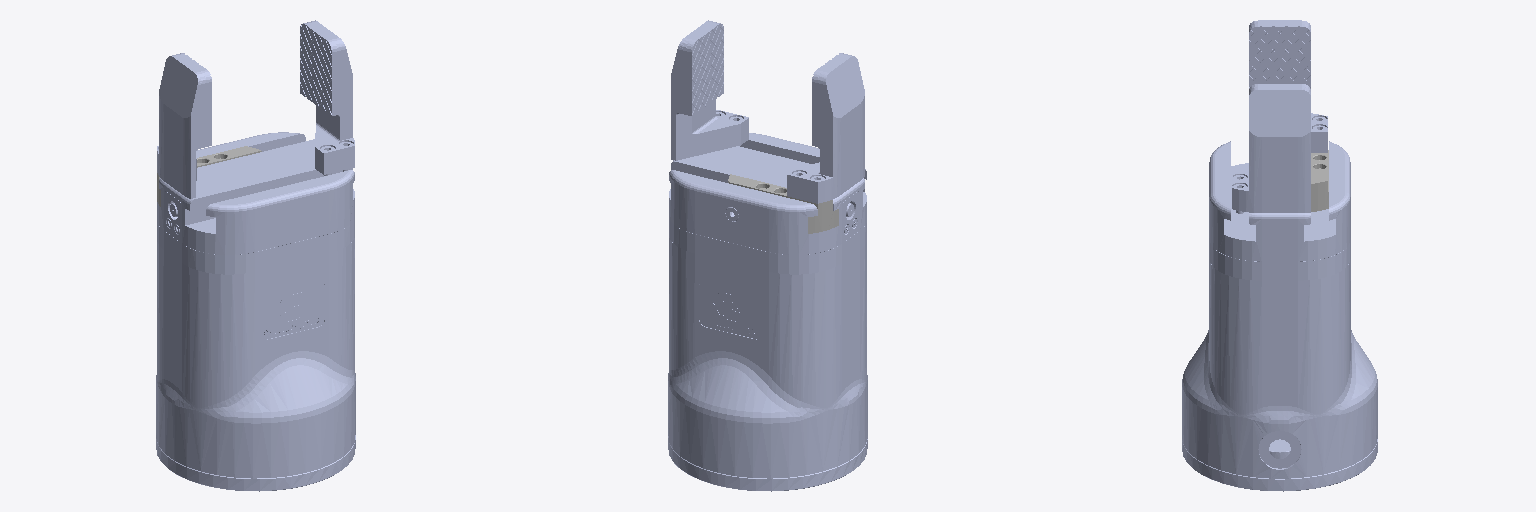
The robot description file, URDF, robot "crt_ctpm2f50f":
<?xml version="1.0" encoding="utf-8"?>
<!-- This URDF was automatically created by SolidWorks to URDF Exporter! Originally created by Stephen Brawner (brawner@gmail.com) 
     Commit Version: 1.6.0-4-g7f85cfe  Build Version: 1.6.7995.38578
     For more information, please see http://wiki.ros.org/sw_urdf_exporter -->
<robot
  name="crt_ctpm2f50f">
  <link
    name="base_link">
    <inertial>
      <origin
        xyz="0.000802838776835001 9.53299287325016E-06 0.0867685828772007"
        rpy="0 0 0" />
      <mass
        value="1.56796405570302" />
      <inertia
        ixx="0.00192617073321075"
        ixy="2.91149292551815E-05"
        ixz="6.18066592591082E-05"
        iyy="0.00216968536764494"
        iyz="2.31914608939548E-06"
        izz="0.00102430382169409" />
    </inertial>
    <visual>
      <origin
        xyz="0 0 0"
        rpy="0 0 0" />
      <geometry>
        <mesh
          filename="package://crt_ctpm2f50f_gripper_visualization/meshes/base_link.STL" />
      </geometry>
      <material
        name="">
        <color
          rgba="0.792156862745098 0.819607843137255 0.933333333333333 1" />
      </material>
    </visual>
    <collision>
      <origin
        xyz="0 0 0"
        rpy="0 0 0" />
      <geometry>
        <mesh
          filename="package://crt_ctpm2f50f_gripper_visualization/meshes/base_link.STL" />
      </geometry>
    </collision>
  </link>
  <link
    name="Left_1_Link">
    <inertial>
      <origin
        xyz="-0.000182823597118804 -0.0068852149483907 -0.00609428887131561"
        rpy="0 0 0" />
      <mass
        value="0.0326876239224738" />
      <inertia
        ixx="5.41875464286175E-06"
        ixy="-2.33722387796489E-09"
        ixz="5.85870841743787E-09"
        iyy="5.35235744702078E-06"
        iyz="-4.9135149276854E-08"
        izz="6.18976783961408E-07" />
    </inertial>
    <visual>
      <origin
        xyz="0 0 0"
        rpy="0 0 0" />
      <geometry>
        <mesh
          filename="package://crt_ctpm2f50f_gripper_visualization/meshes/Left_1_Link.STL" />
      </geometry>
      <material
        name="">
        <color
          rgba="0.752941176470588 0.752941176470588 0.752941176470588 1" />
      </material>
    </visual>
    <collision>
      <origin
        xyz="0 0 0"
        rpy="0 0 0" />
      <geometry>
        <mesh
          filename="package://crt_ctpm2f50f_gripper_visualization/meshes/Left_1_Link.STL" />
      </geometry>
    </collision>
  </link>
  <joint
    name="Left_1_Joint"
    type="prismatic">
    <origin
      xyz="0.0064442 -0.01525 0.117"
      rpy="1.5708 0 -1.5708" />
    <parent
      link="base_link" />
    <child
      link="Left_1_Link" />
    <axis
      xyz="0 0 1" />
    <limit
      lower="0"
      upper="0.02583"
      effort="2"
      velocity="1000" />
  </joint>
  <link
    name="Left_Pad_Link">
    <inertial>
      <origin
        xyz="0.00182710180722111 -0.0106429387947988 -0.00315143135703562"
        rpy="0 0 0" />
      <mass
        value="0.0106719514862934" />
      <inertia
        ixx="1.98999590162086E-06"
        ixy="2.47748646246224E-07"
        ixz="-7.39453890647376E-08"
        iyy="6.54968474674576E-07"
        iyz="7.63847727818017E-08"
        izz="2.46114179214657E-06" />
    </inertial>
    <visual>
      <origin
        xyz="0 0 0"
        rpy="0 0 0" />
      <geometry>
        <mesh
          filename="package://crt_ctpm2f50f_gripper_visualization/meshes/Left_Pad_Link.STL" />
      </geometry>
      <material
        name="">
        <color
          rgba="0.792156862745098 0.819607843137255 0.933333333333333 1" />
      </material>
    </visual>
    <collision>
      <origin
        xyz="0 0 0"
        rpy="0 0 0" />
      <geometry>
        <mesh
          filename="package://crt_ctpm2f50f_gripper_visualization/meshes/Left_Pad_Link.STL" />
      </geometry>
    </collision>
  </link>
  <joint
    name="Left_Pad_Joint"
    type="fixed">
    <origin
      xyz="-0.01525 0.033247 -0.020792"
      rpy="0 0 0" />
    <parent
      link="Left_1_Link" />
    <child
      link="Left_Pad_Link" />
    <axis
      xyz="0 0 0" />
  </joint>
  <link
    name="Right_1_Link">
    <inertial>
      <origin
        xyz="-0.000182823597261562 -0.00688521494838883 -0.0060942888712763"
        rpy="0 0 0" />
      <mass
        value="0.0326876239224738" />
      <inertia
        ixx="5.41875464286176E-06"
        ixy="-2.33722387796513E-09"
        ixz="5.85870841744649E-09"
        iyy="5.35235744702079E-06"
        iyz="-4.91351492768582E-08"
        izz="6.1897678396141E-07" />
    </inertial>
    <visual>
      <origin
        xyz="0 0 0"
        rpy="0 0 0" />
      <geometry>
        <mesh
          filename="package://crt_ctpm2f50f_gripper_visualization/meshes/Right_1_Link.STL" />
      </geometry>
      <material
        name="">
        <color
          rgba="0.752941176470588 0.752941176470588 0.752941176470588 1" />
      </material>
    </visual>
    <collision>
      <origin
        xyz="0 0 0"
        rpy="0 0 0" />
      <geometry>
        <mesh
          filename="package://crt_ctpm2f50f_gripper_visualization/meshes/Right_1_Link.STL" />
      </geometry>
    </collision>
  </link>
  <joint
    name="Right_1_Joint"
    type="prismatic">
    <origin
      xyz="-0.0064442 0.01525 0.117"
      rpy="1.5708 0 1.5708" />
    <parent
      link="base_link" />
    <child
      link="Right_1_Link" />
    <axis
      xyz="0 0 -1" />
    <limit
      lower="-0.02583"
      upper="0"
      effort="2"
      velocity="1000" />
    <mimic
      joint="Left_1_Joint"
      multiplier="-1"
      offset="0" />
  </joint>
  <link
    name="Right_Pad_Link">
    <inertial>
      <origin
        xyz="0.00182710180721993 -0.010642938794799 -0.00315143135702717"
        rpy="0 0 0" />
      <mass
        value="0.0106719514862934" />
      <inertia
        ixx="1.98999590162086E-06"
        ixy="2.47748646246214E-07"
        ixz="-7.39453890647369E-08"
        iyy="6.54968474674572E-07"
        iyz="7.63847727818021E-08"
        izz="2.46114179214656E-06" />
    </inertial>
    <visual>
      <origin
        xyz="0 0 0"
        rpy="0 0 0" />
      <geometry>
        <mesh
          filename="package://crt_ctpm2f50f_gripper_visualization/meshes/Right_Pad_Link.STL" />
      </geometry>
      <material
        name="">
        <color
          rgba="0.792156862745098 0.819607843137255 0.933333333333333 1" />
      </material>
    </visual>
    <collision>
      <origin
        xyz="0 0 0"
        rpy="0 0 0" />
      <geometry>
        <mesh
          filename="package://crt_ctpm2f50f_gripper_visualization/meshes/Right_Pad_Link.STL" />
      </geometry>
    </collision>
  </link>
  <joint
    name="Right_Pad_Joint"
    type="fixed">
    <origin
      xyz="-0.01525 0.033247 -0.020792"
      rpy="0 0 0" />
    <parent
      link="Right_1_Link" />
    <child
      link="Right_Pad_Link" />
    <axis
      xyz="0 0 0" />
  </joint>
</robot>

--- Render facts (derived) ---
Views: 3 orthographic renders of the robot side by side, from view 1: azimuth 30°, elevation 25°; view 2: azimuth 150°, elevation 25°; view 3: azimuth 270°, elevation 25°.
Robot: crt_ctpm2f50f — 5 links, 4 joints (2 prismatic, 2 fixed); root link base_link; default pose: every joint at zero.
Links seen in each view (by area): view 1: base_link, Left_Pad_Link, Right_Pad_Link, Right_1_Link; view 2: base_link, Right_Pad_Link, Left_Pad_Link, Right_1_Link; view 3: base_link, Left_Pad_Link, Right_Pad_Link, Right_1_Link.
Link boxes in pixels (box(x1,y1,x2,y2)): base_link: box(156, 132, 355, 491); Left_Pad_Link: box(300, 20, 354, 175); Right_Pad_Link: box(157, 53, 211, 198); Right_1_Link: box(157, 146, 261, 206); base_link: box(668, 133, 867, 491); Right_Pad_Link: box(787, 53, 864, 203); Left_Pad_Link: box(671, 20, 748, 160); Right_1_Link: box(728, 174, 838, 233); base_link: box(1182, 141, 1377, 491); Left_Pad_Link: box(1232, 84, 1310, 213); Right_Pad_Link: box(1249, 20, 1327, 152); Right_1_Link: box(1311, 150, 1328, 211).
Bounding box of the posed robot: 0.075 × 0.075 × 0.167 m (x, y, z).
Meshes: 5 distinct files referenced, 4 mesh visuals loaded (4 binary STL); not drawn: 1 (reference not matched to a file when rendering).
